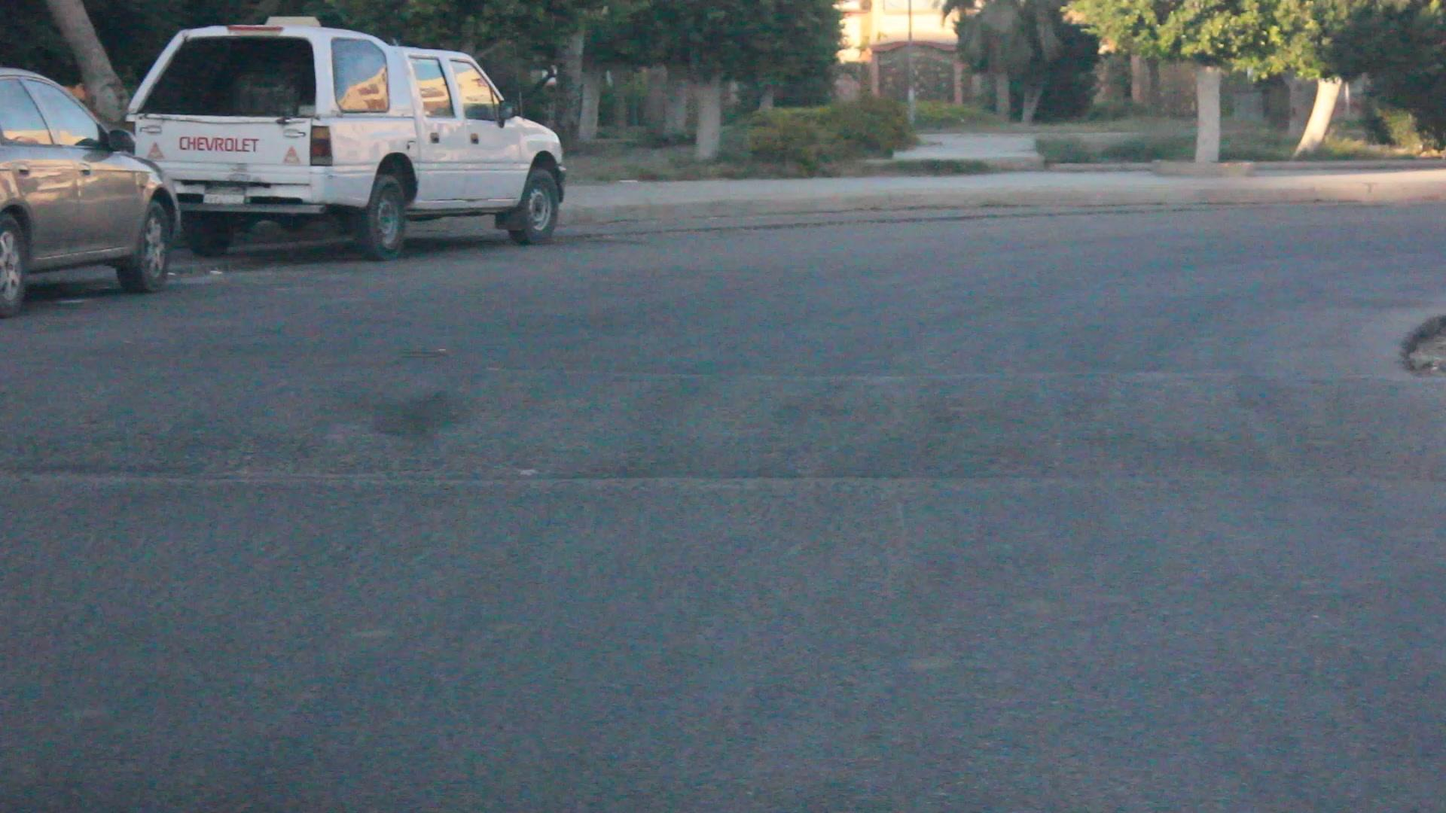Bump: (56, 309, 1405, 521)
